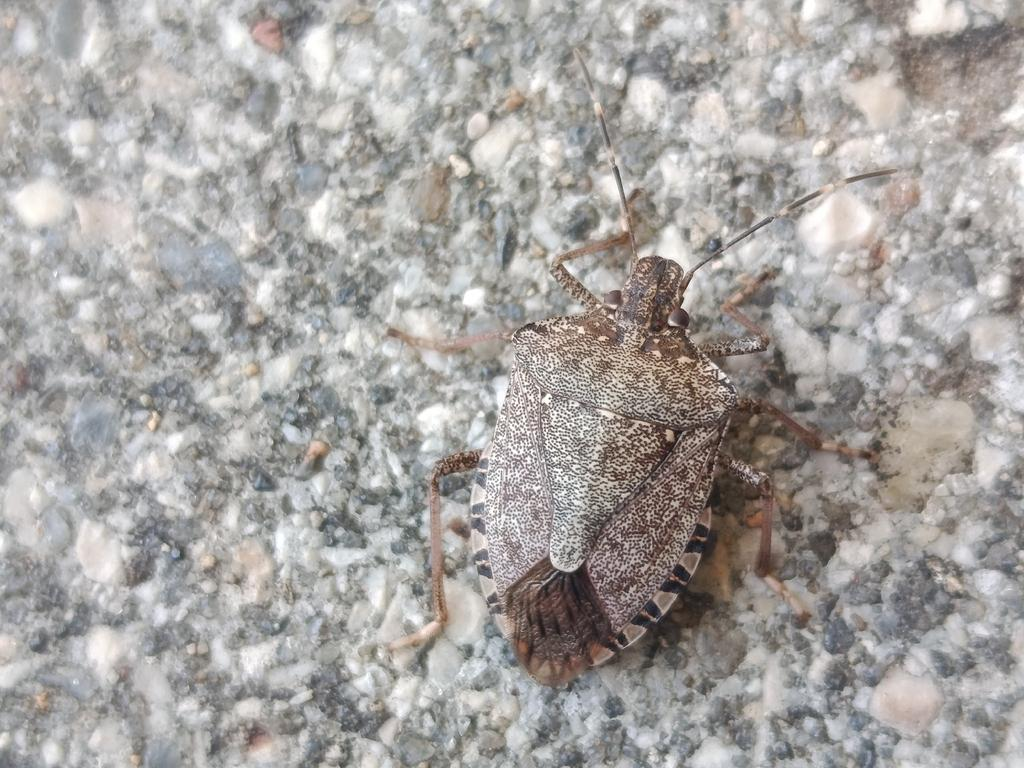stink_bugs: (316, 0, 956, 768)
